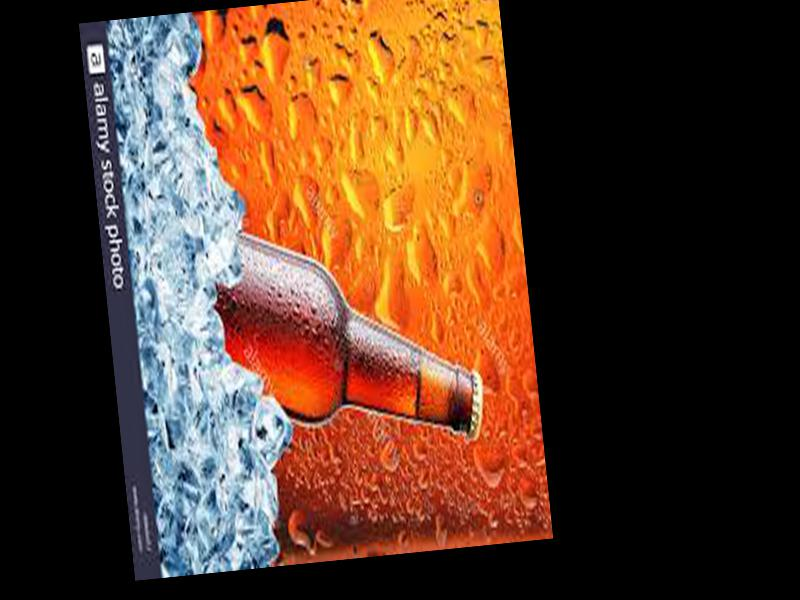Beer: (205, 213, 489, 477)
